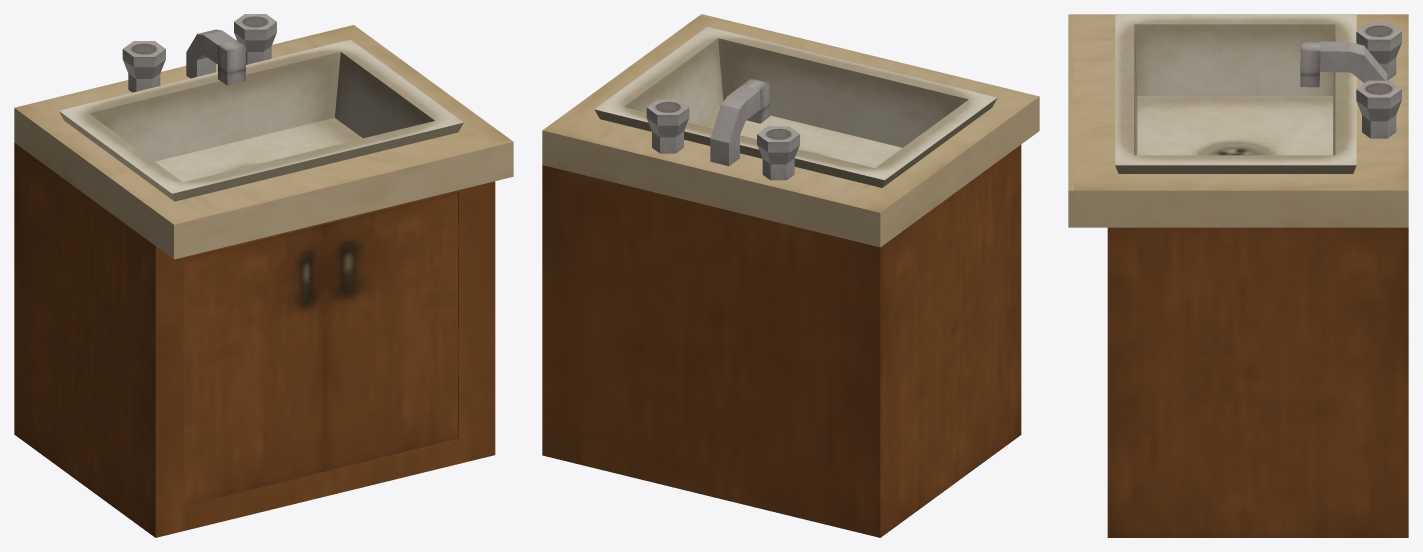
The model's file is KitchenSink.fbx.
3 views of the same model, side by side, from view 1: azimuth 30°, elevation 25°; view 2: azimuth 150°, elevation 25°; view 3: azimuth 270°, elevation 25° (orthographic). The views are drawn at different scales.
Visible parts, largest first — view 1: KitchenSink, KitchenSink.002, KitchenSinkDoorL, KitchenSinkDoorR, KitchenSinkTap, KitchenSinkLeftKnob, KitchenSinkRightKnob; view 2: KitchenSink, KitchenSink.002, KitchenSinkTap, KitchenSinkLeftKnob, KitchenSinkRightKnob; view 3: KitchenSink, KitchenSink.002, KitchenSinkTap, KitchenSinkRightKnob, KitchenSinkLeftKnob.
Part boxes in pixels (x1=…): KitchenSink: x1=14, y1=25, x2=513, y2=537; KitchenSink.002: x1=59, y1=39, x2=463, y2=201; KitchenSinkDoorL: x1=183, y1=224, x2=324, y2=506; KitchenSinkDoorR: x1=324, y1=192, x2=458, y2=471; KitchenSinkTap: x1=186, y1=29, x2=245, y2=85; KitchenSinkLeftKnob: x1=122, y1=41, x2=165, y2=92; KitchenSinkRightKnob: x1=234, y1=14, x2=276, y2=64; KitchenSink: x1=542, y1=14, x2=1039, y2=537; KitchenSink.002: x1=594, y1=27, x2=997, y2=187; KitchenSinkTap: x1=710, y1=78, x2=769, y2=166; KitchenSinkLeftKnob: x1=757, y1=126, x2=799, y2=180; KitchenSinkRightKnob: x1=646, y1=99, x2=689, y2=153; KitchenSink: x1=1068, y1=14, x2=1408, y2=537; KitchenSink.002: x1=1115, y1=14, x2=1356, y2=173; KitchenSinkTap: x1=1300, y1=41, x2=1387, y2=87; KitchenSinkRightKnob: x1=1356, y1=80, x2=1401, y2=138; KitchenSinkLeftKnob: x1=1356, y1=23, x2=1401, y2=80.
Bounding box in the file's own units: 248 × 202 × 266.
